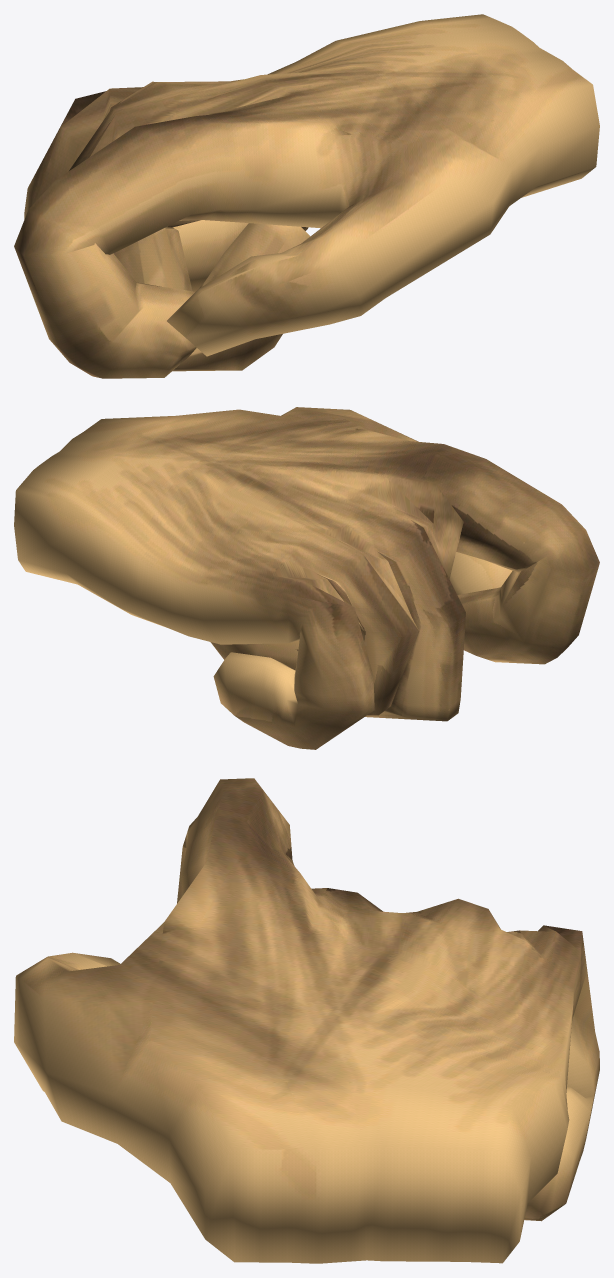
Rendered from temp mesh_pinch2.glb.
The picture shows the model from 3 angles, top to bottom: view 1: azimuth 30°, elevation 25°; view 2: azimuth 150°, elevation 25°; view 3: azimuth 270°, elevation 25°; orthographic projection. The views are drawn at different scales.
Visible parts, largest first — view 1: hand main instance_R; view 2: hand main instance_R; view 3: hand main instance_R.
Boxes of the visible parts, box(x1,y1,x2,y2) form: hand main instance_R: box(14, 14, 599, 378); hand main instance_R: box(14, 407, 599, 749); hand main instance_R: box(14, 778, 599, 1263).
Bounding box in the file's own units: 2.37 × 1.16 × 1.61.
Materials: 1 (1 with a texture image).
